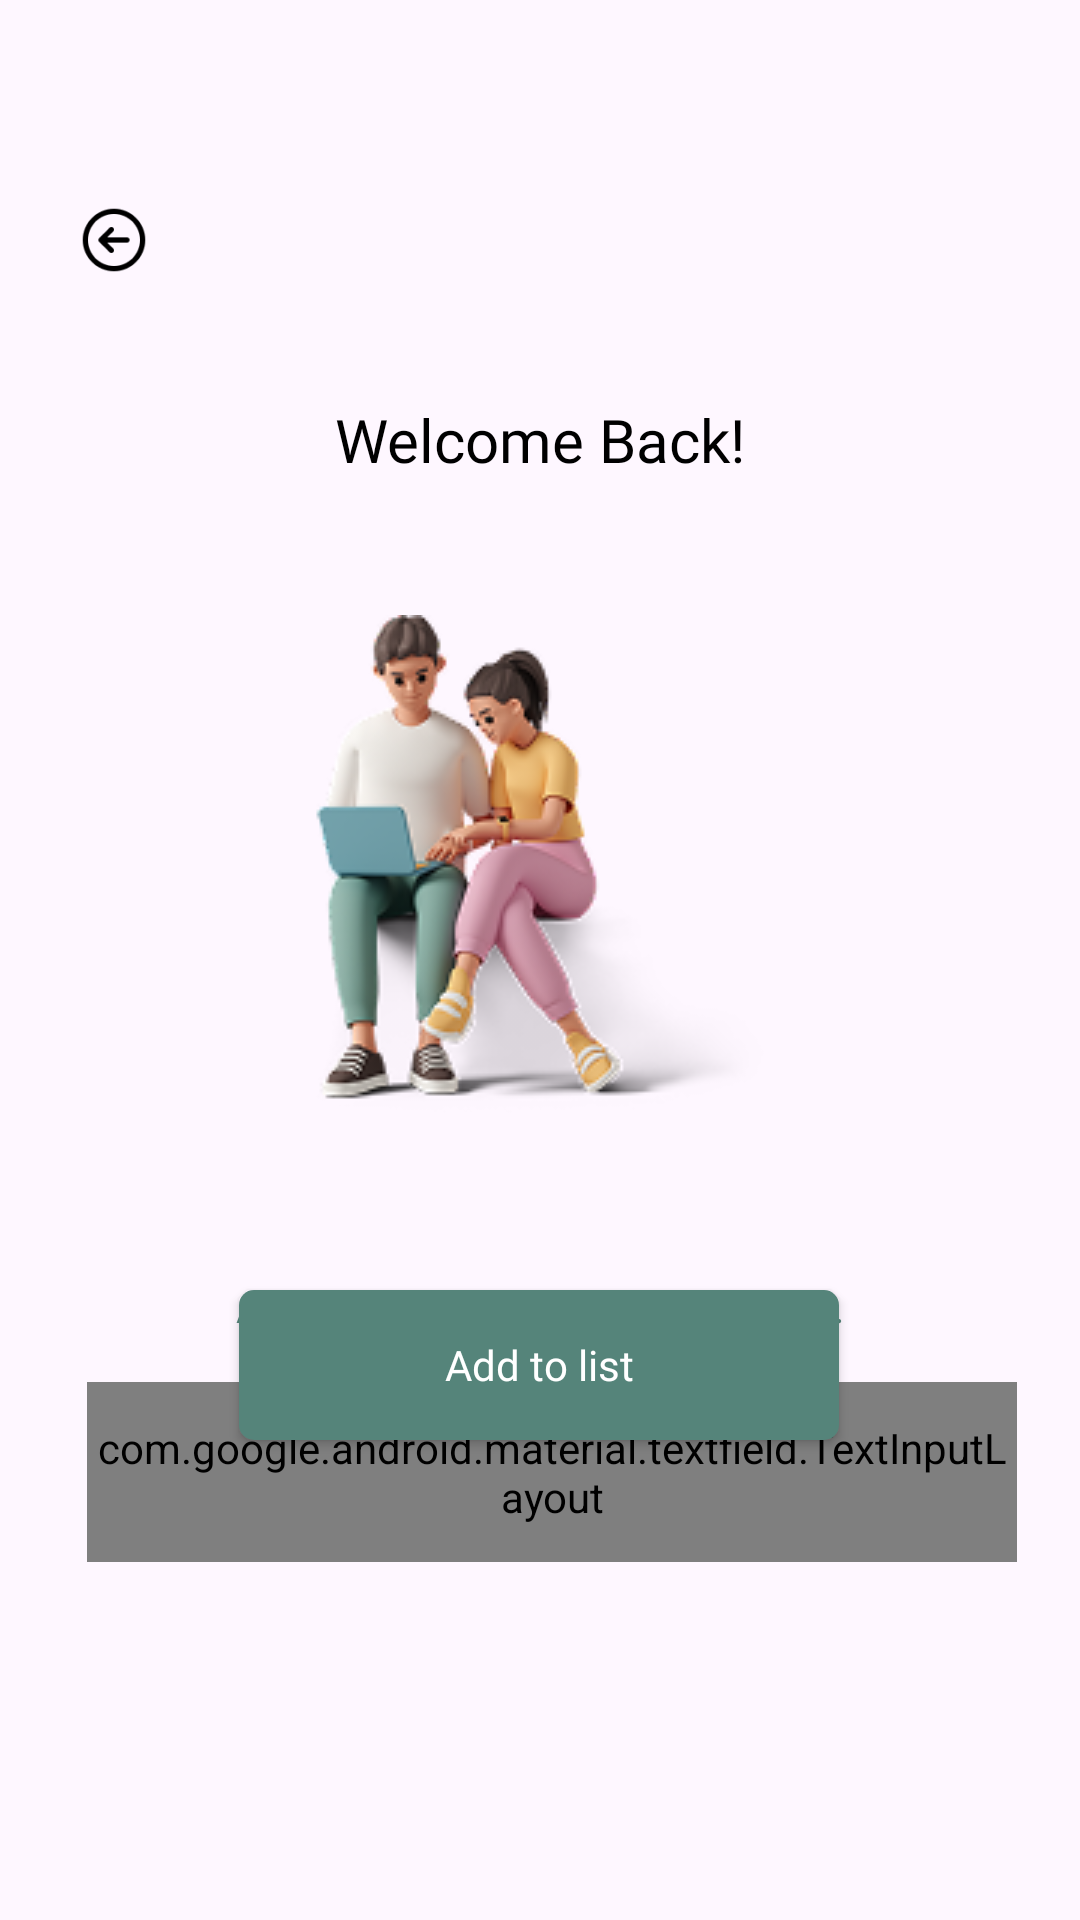

Icon click points for this 1080 × 1920 phone screenshot, format (x,y):
back: (114,240)
